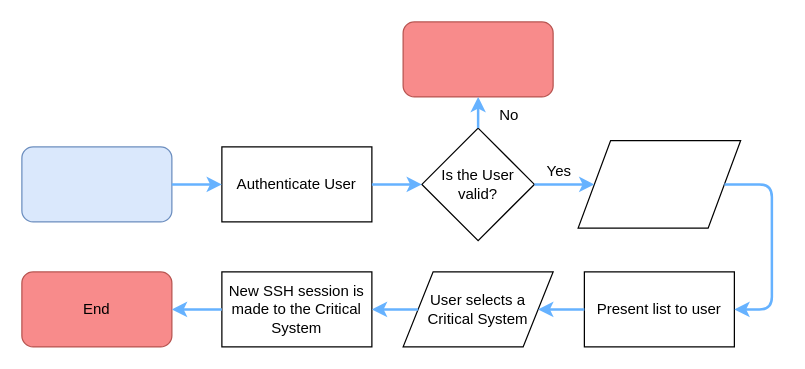
Image size: 805x369. Some labels were removed from this diagram. Each missing label, with the centre of its shape:
Disconnect: [477,59]
Get list of Critical Systems for User: [659,183]
User connects to Jumpserver: [96,184]
